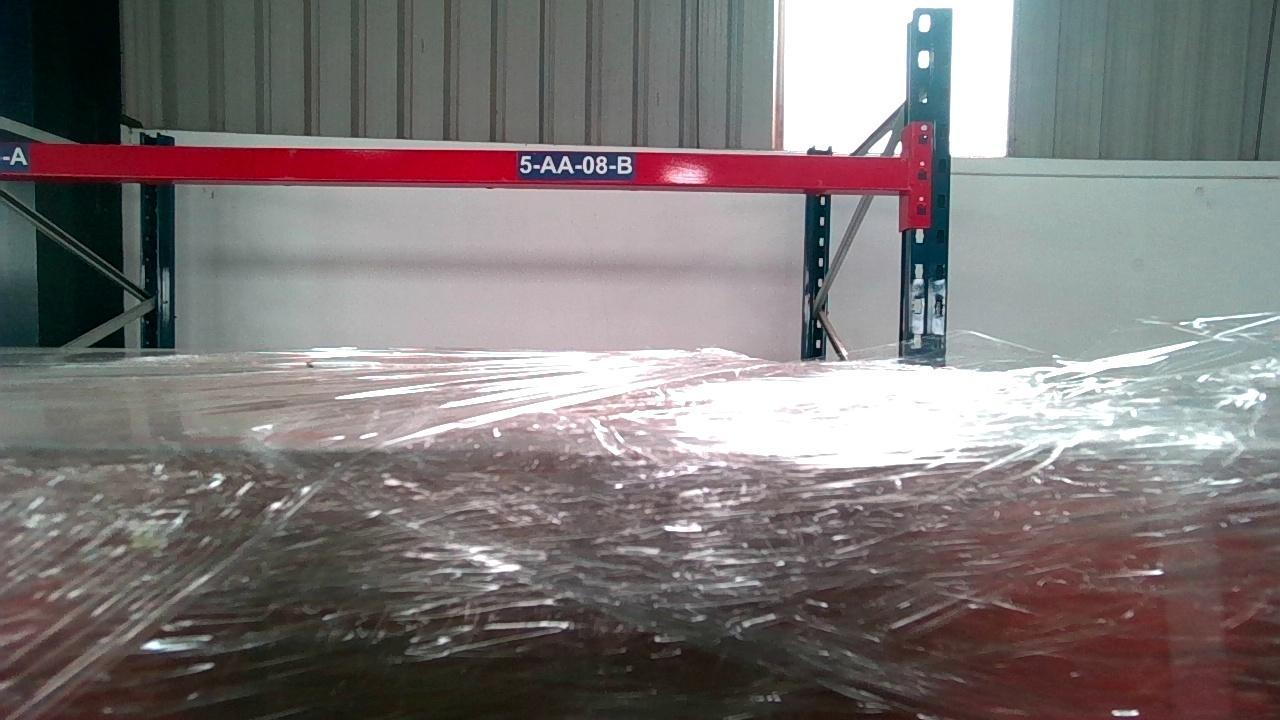h_rack: (0, 139, 909, 193)
